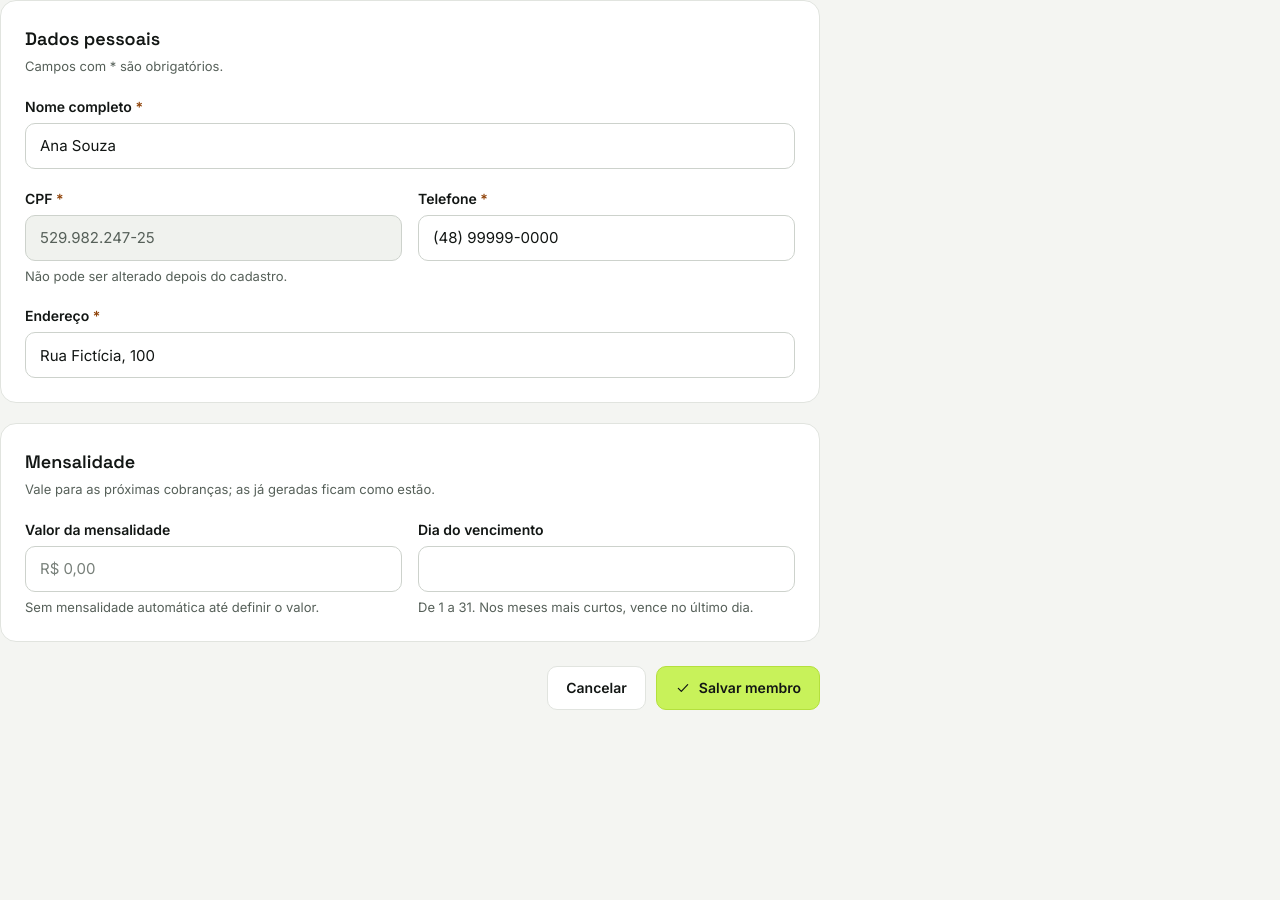
EditarMembro › salva, mostra o aviso e volta para a lista
The width and height of the screenshot is (1280, 900).
Replace the text in the field labelled "Endereço" with "Av. Fictícia, 200": [410, 355] box [25,332,795,378]
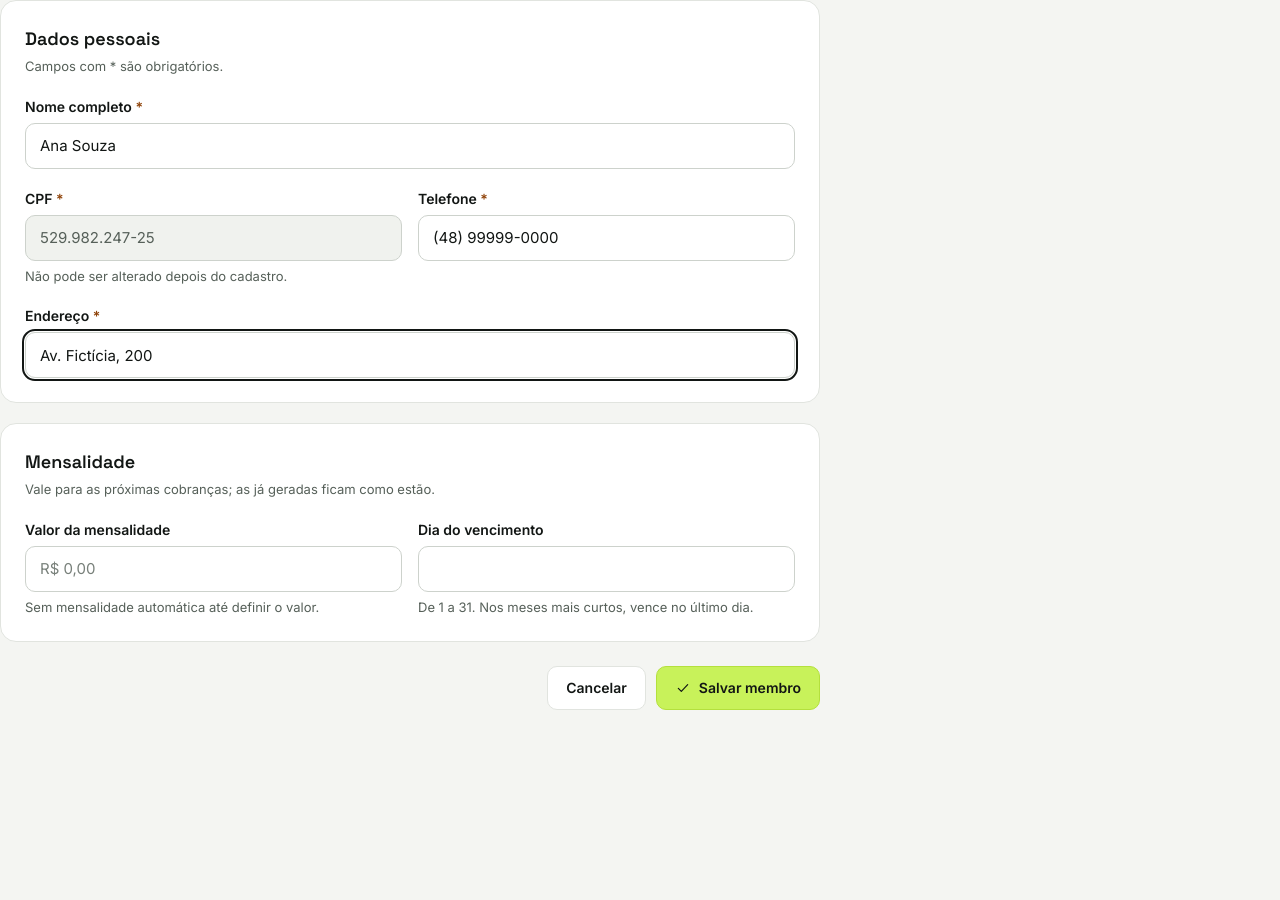
Click the button "Salvar membro": [738, 688] box [656,666,820,710]
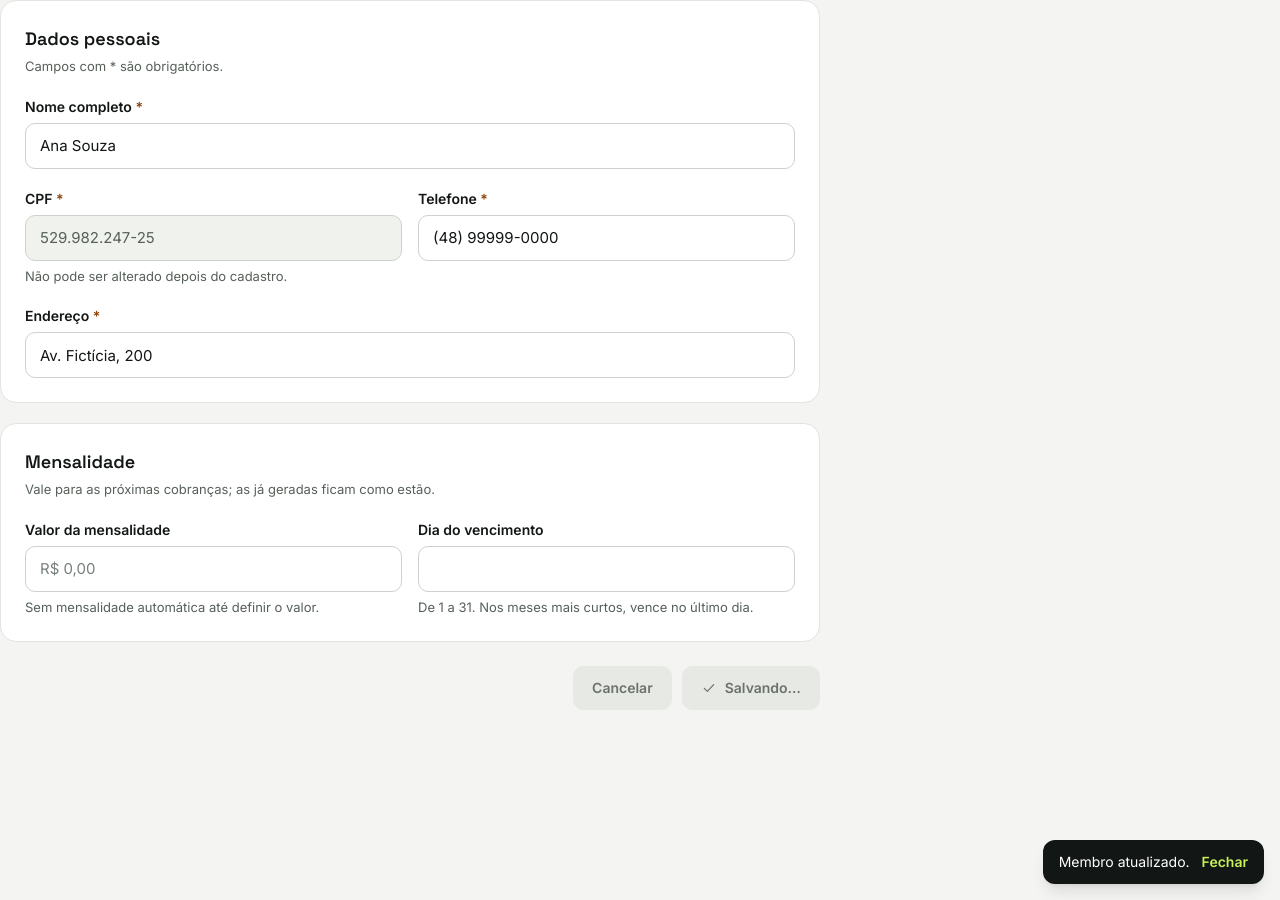
Now the text "Membro atualizado." is shown, box [1059,852,1190,872]
